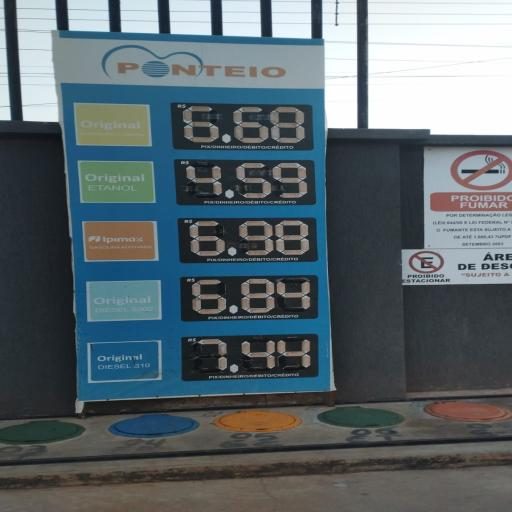ETANOL: (78, 165, 157, 201)
GASOLINA AD: (77, 219, 166, 262)
GASOLINA C: (74, 104, 154, 146)
S10: (87, 342, 162, 382)
S500: (88, 283, 165, 321)
placa: (51, 31, 329, 399)
preco: (170, 104, 310, 152), (184, 218, 318, 261), (178, 163, 315, 204), (182, 280, 315, 319), (188, 338, 316, 378)
